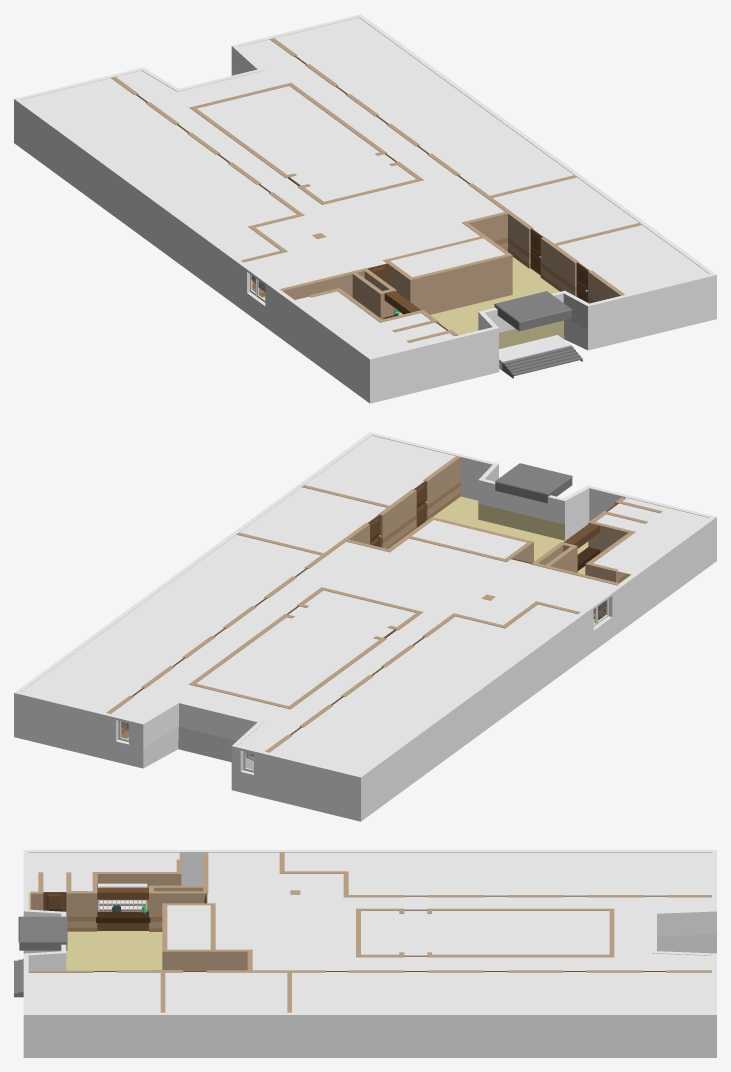
Rendered from Lobby.fbx.
3 views of the same model, one above another, from view 1: azimuth 30°, elevation 25°; view 2: azimuth 150°, elevation 25°; view 3: azimuth 270°, elevation 25° (orthographic). The views are drawn at different scales.
Visible parts, largest first — view 1: LOBBY, FogPlanes.014, FogPlanes.009, FogPlanes.010, LOBBY_Layout, FogPlanes.004, FogPlanes.007, FogPlanes.008, FogPlanes.006, Entrance, FogPlanes.005; view 2: LOBBY, FogPlanes.014, FogPlanes.009, FogPlanes.010, LOBBY_Layout, FogPlanes.004, FogPlanes.007, FogPlanes.008, FogPlanes.006, FogPlanes.005, Entrance, LOBBY_Layout.001; view 3: LOBBY, FogPlanes.014, FogPlanes.009, FogPlanes.010, LOBBY_Layout, FogPlanes.004, FogPlanes.007, FogPlanes.008, FogPlanes.006, Entrance, FogPlanes.005, LOBBY_Layout.001 (+2 smaller).
Part boxes in pixels (box(x1,y1,x2,y2)): LOBBY: box(14, 14, 716, 403); FogPlanes.014: box(116, 39, 504, 288); FogPlanes.009: box(274, 17, 573, 195); FogPlanes.010: box(22, 78, 296, 260); LOBBY_Layout: box(111, 38, 642, 342); FogPlanes.004: box(197, 86, 416, 201); FogPlanes.007: box(557, 225, 709, 294); FogPlanes.008: box(493, 177, 638, 243); FogPlanes.006: box(295, 291, 455, 356); Entrance: box(494, 291, 582, 378); FogPlanes.005: box(390, 238, 505, 277); LOBBY: box(14, 432, 716, 821); FogPlanes.014: box(111, 538, 616, 751); FogPlanes.009: box(21, 534, 320, 712); FogPlanes.010: box(269, 604, 577, 774); LOBBY_Layout: box(106, 456, 662, 769); FogPlanes.004: box(196, 590, 415, 705); FogPlanes.007: box(305, 435, 455, 505); FogPlanes.008: box(240, 487, 386, 552); FogPlanes.006: box(593, 497, 708, 574); FogPlanes.005: box(412, 520, 526, 558); Entrance: box(495, 463, 572, 503); LOBBY_Layout.001: box(563, 523, 599, 570); LOBBY: box(23, 850, 716, 1057); FogPlanes.014: box(207, 852, 711, 971); FogPlanes.009: box(292, 972, 711, 1012); FogPlanes.010: box(284, 852, 711, 895); LOBBY_Layout: box(28, 852, 711, 1012); FogPlanes.004: box(361, 910, 609, 955); FogPlanes.007: box(28, 972, 160, 1012); FogPlanes.008: box(165, 972, 287, 1012); FogPlanes.006: box(28, 852, 179, 892); Entrance: box(14, 916, 67, 997); FogPlanes.005: box(167, 905, 210, 949); LOBBY_Layout.001: box(96, 888, 150, 930).
Size of the model in its own units: 2137 by 314 by 3852.
